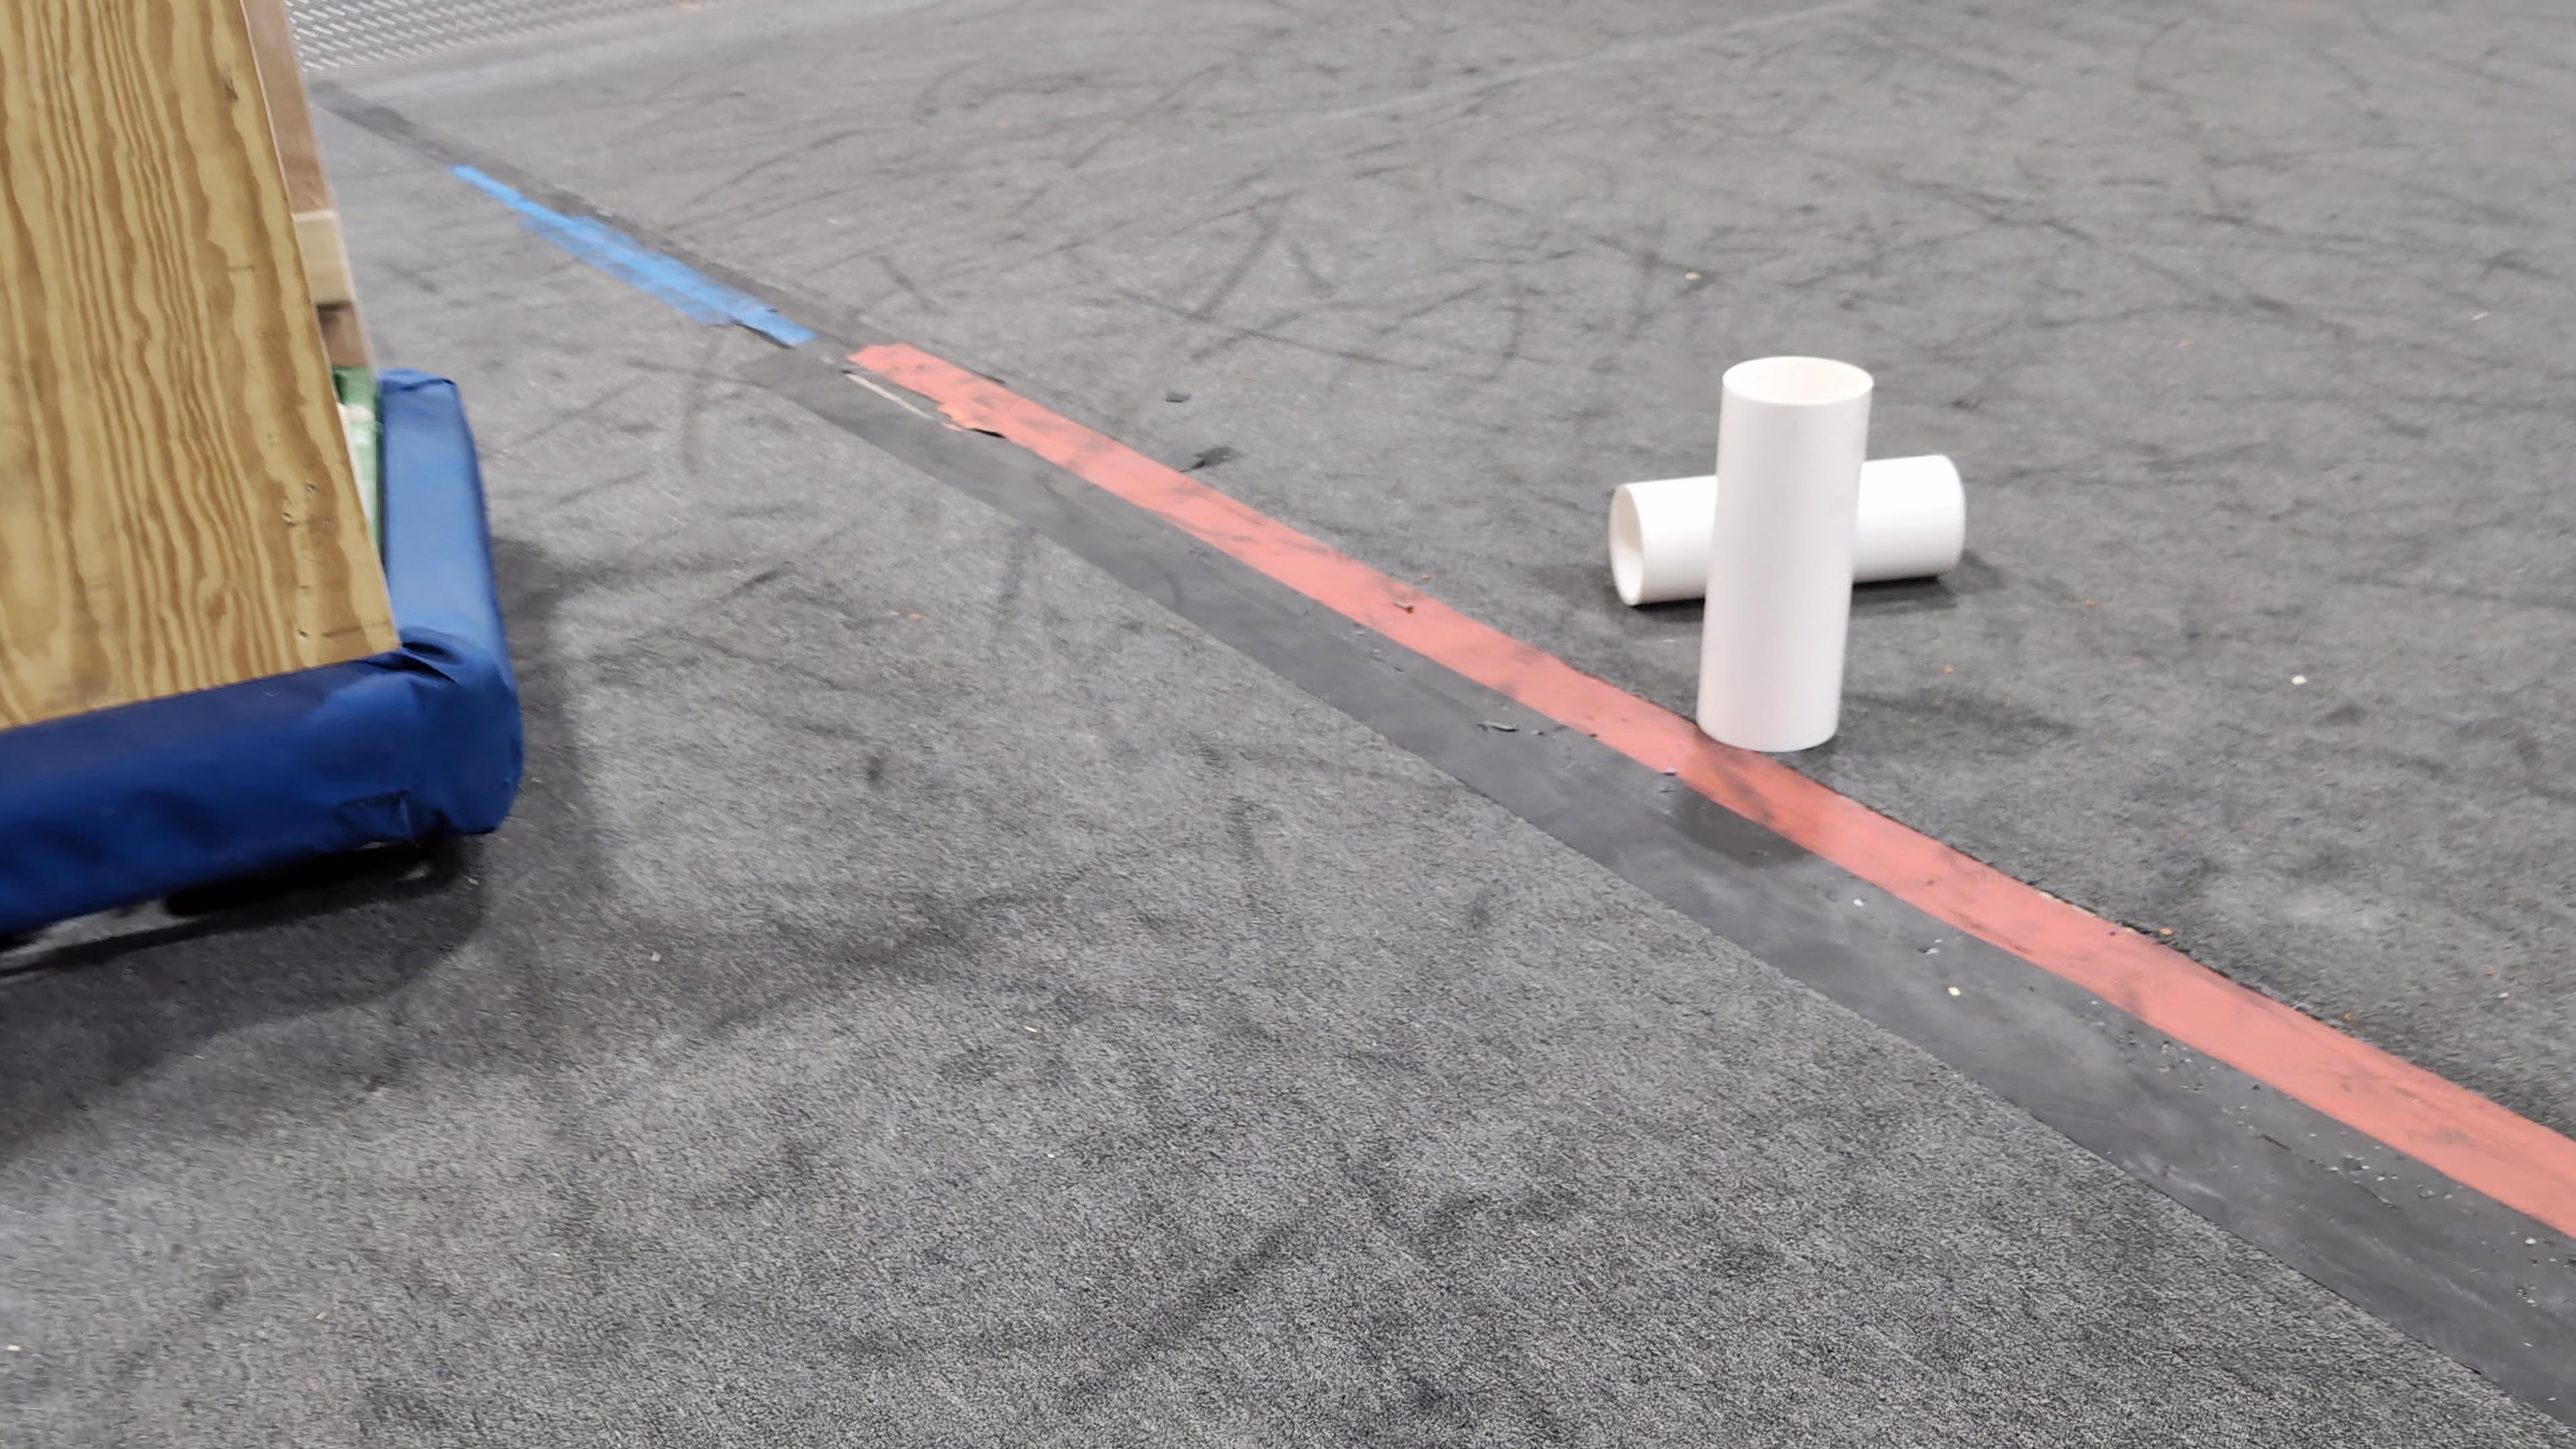coral: (1690, 352, 1874, 757)
